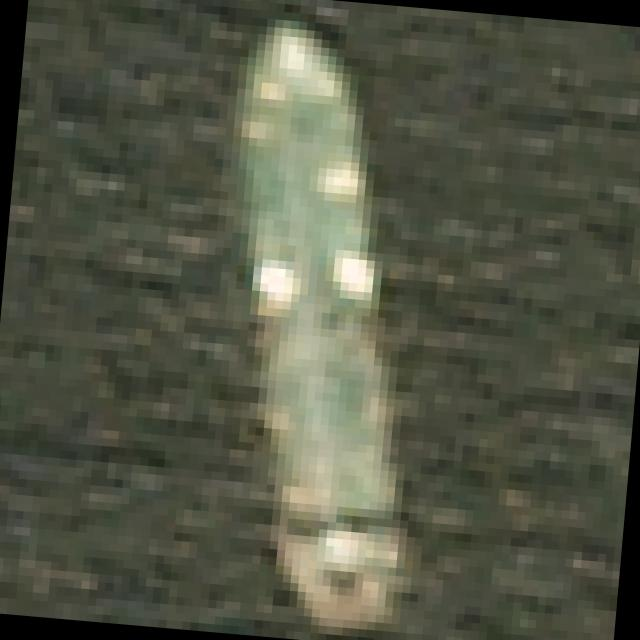ship: (141, 0, 523, 640)
